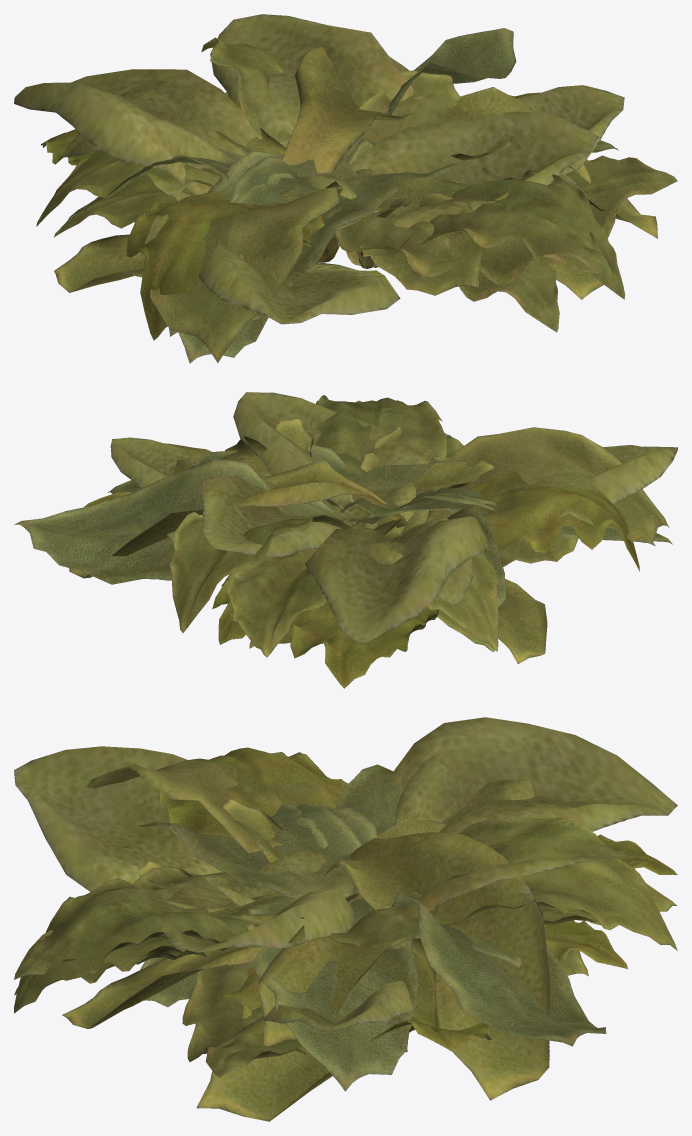
Rendered from xeric-groundcover.glb.
The picture shows the model from 3 angles, top to bottom: view 1: azimuth 30°, elevation 25°; view 2: azimuth 150°, elevation 25°; view 3: azimuth 270°, elevation 25°; orthographic projection. The views are drawn at different scales.
Visible parts, largest first — view 1: xeric-groundcover specimen H, xeric-groundcover specimen A, xeric-groundcover specimen G, xeric-groundcover specimen F, xeric-groundcover specimen C, xeric-groundcover specimen D, xeric-groundcover specimen B, xeric-groundcover specimen E; view 2: xeric-groundcover specimen H, xeric-groundcover specimen F, xeric-groundcover specimen A, xeric-groundcover specimen C, xeric-groundcover specimen G, xeric-groundcover specimen B, xeric-groundcover specimen D, xeric-groundcover specimen E; view 3: xeric-groundcover specimen H, xeric-groundcover specimen A, xeric-groundcover specimen F, xeric-groundcover specimen C, xeric-groundcover specimen G, xeric-groundcover specimen E, xeric-groundcover specimen D, xeric-groundcover specimen B.
Part boxes in pixels (bbox=[...]): xeric-groundcover specimen H: bbox=[14, 47, 598, 324]; xeric-groundcover specimen A: bbox=[54, 37, 625, 299]; xeric-groundcover specimen G: bbox=[169, 14, 624, 336]; xeric-groundcover specimen F: bbox=[60, 28, 657, 362]; xeric-groundcover specimen C: bbox=[67, 148, 677, 340]; xeric-groundcover specimen D: bbox=[41, 87, 611, 285]; xeric-groundcover specimen B: bbox=[36, 92, 559, 332]; xeric-groundcover specimen E: bbox=[54, 139, 618, 363]; xeric-groundcover specimen H: bbox=[69, 392, 677, 644]; xeric-groundcover specimen F: bbox=[14, 427, 669, 604]; xeric-groundcover specimen A: bbox=[169, 395, 496, 652]; xeric-groundcover specimen C: bbox=[165, 426, 639, 644]; xeric-groundcover specimen G: bbox=[110, 437, 655, 557]; xeric-groundcover specimen B: bbox=[84, 419, 498, 657]; xeric-groundcover specimen D: bbox=[166, 400, 578, 688]; xeric-groundcover specimen E: bbox=[108, 444, 672, 663]; xeric-groundcover specimen H: bbox=[14, 717, 677, 1100]; xeric-groundcover specimen A: bbox=[14, 803, 677, 1051]; xeric-groundcover specimen F: bbox=[86, 752, 606, 1121]; xeric-groundcover specimen C: bbox=[144, 747, 627, 1077]; xeric-groundcover specimen G: bbox=[62, 806, 629, 1029]; xeric-groundcover specimen E: bbox=[140, 825, 588, 1091]; xeric-groundcover specimen D: bbox=[14, 834, 677, 1046]; xeric-groundcover specimen B: bbox=[14, 802, 676, 1051].
Bounding box in the file's own units: 1 × 0.2827 × 1.
Materials: 1 (1 with a texture image).
